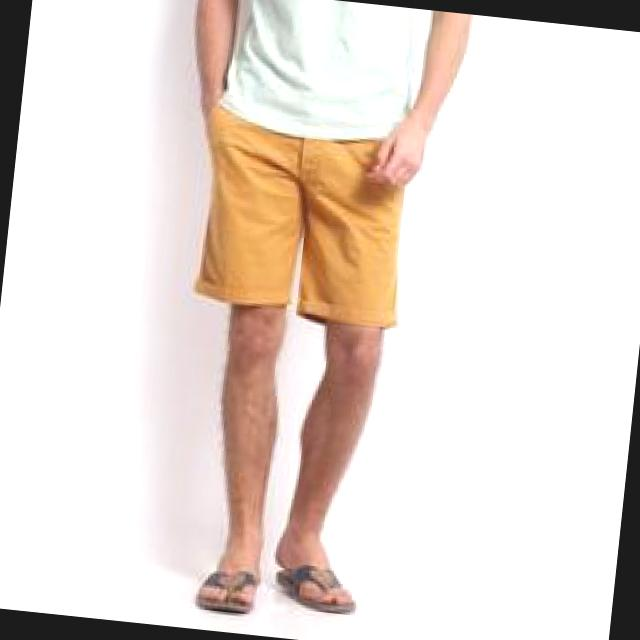short: (185, 84, 422, 330)
